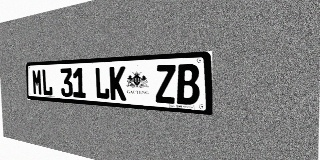1: (72, 68, 86, 98)
3: (60, 68, 73, 97)
B: (176, 64, 200, 105)
K: (109, 66, 126, 101)
L: (94, 67, 110, 100), (42, 69, 53, 96)
M: (32, 69, 42, 95)
Z: (155, 65, 176, 104)
